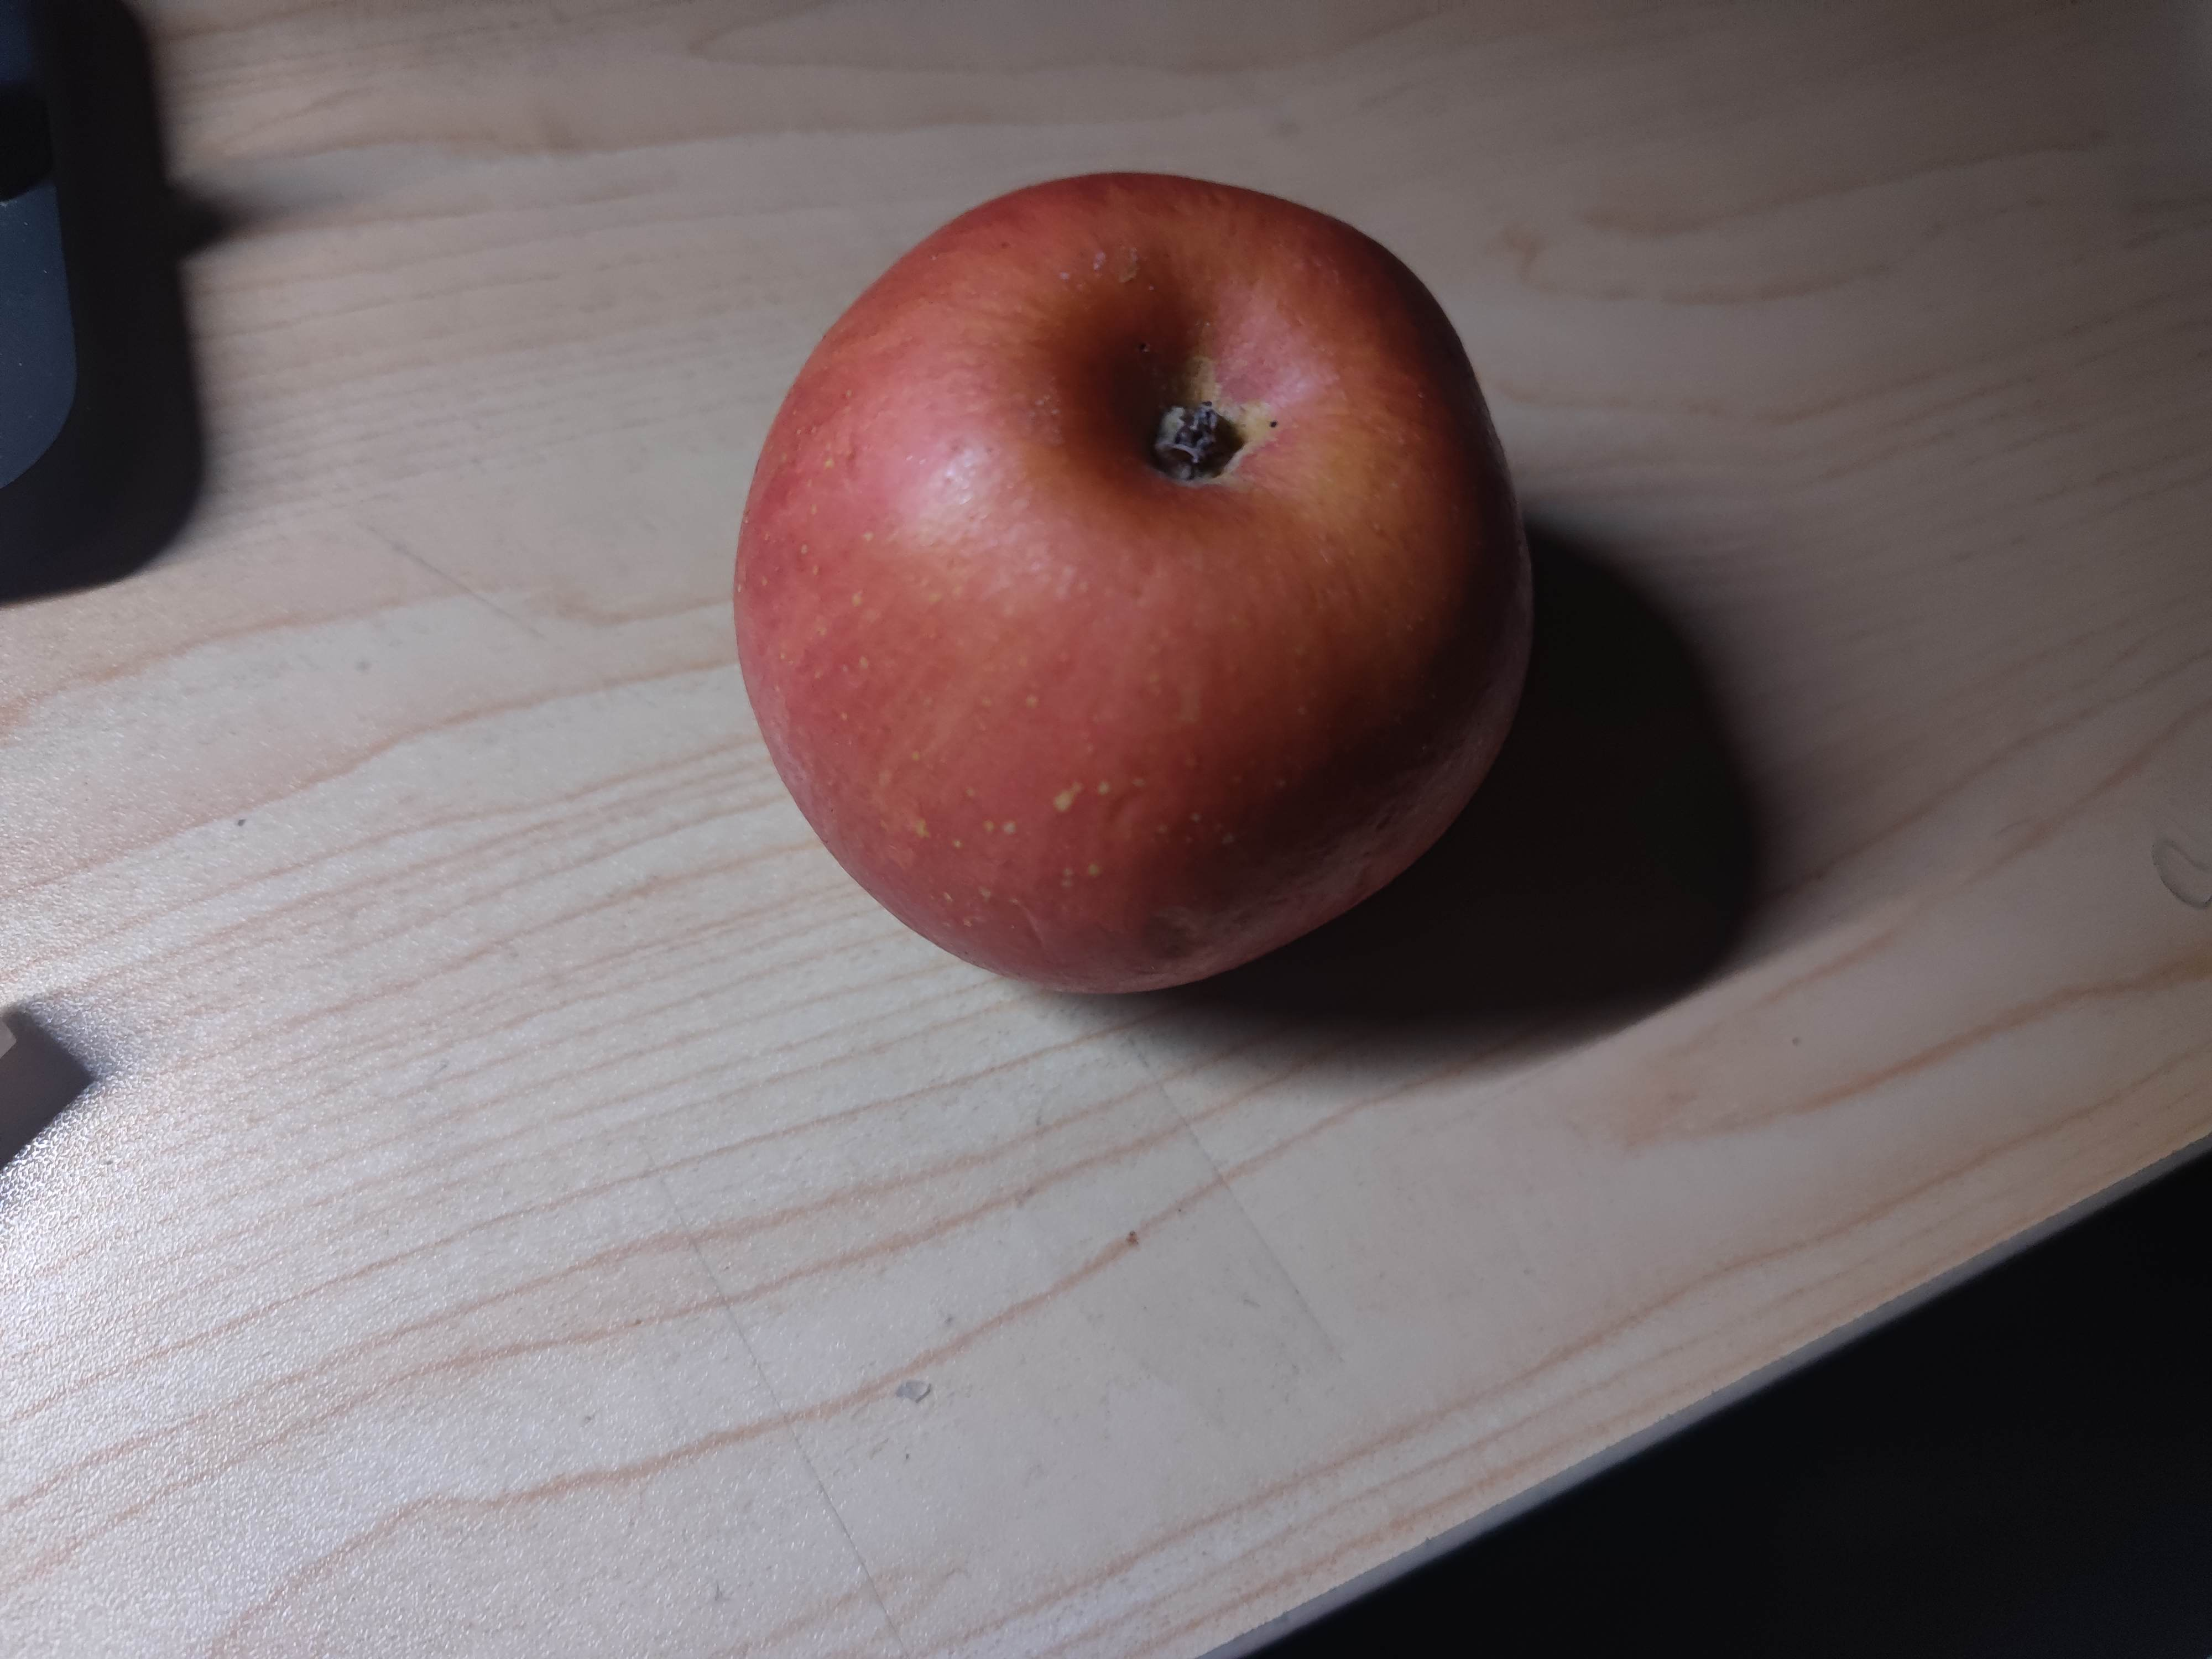apple: (728, 171, 1548, 1002)
